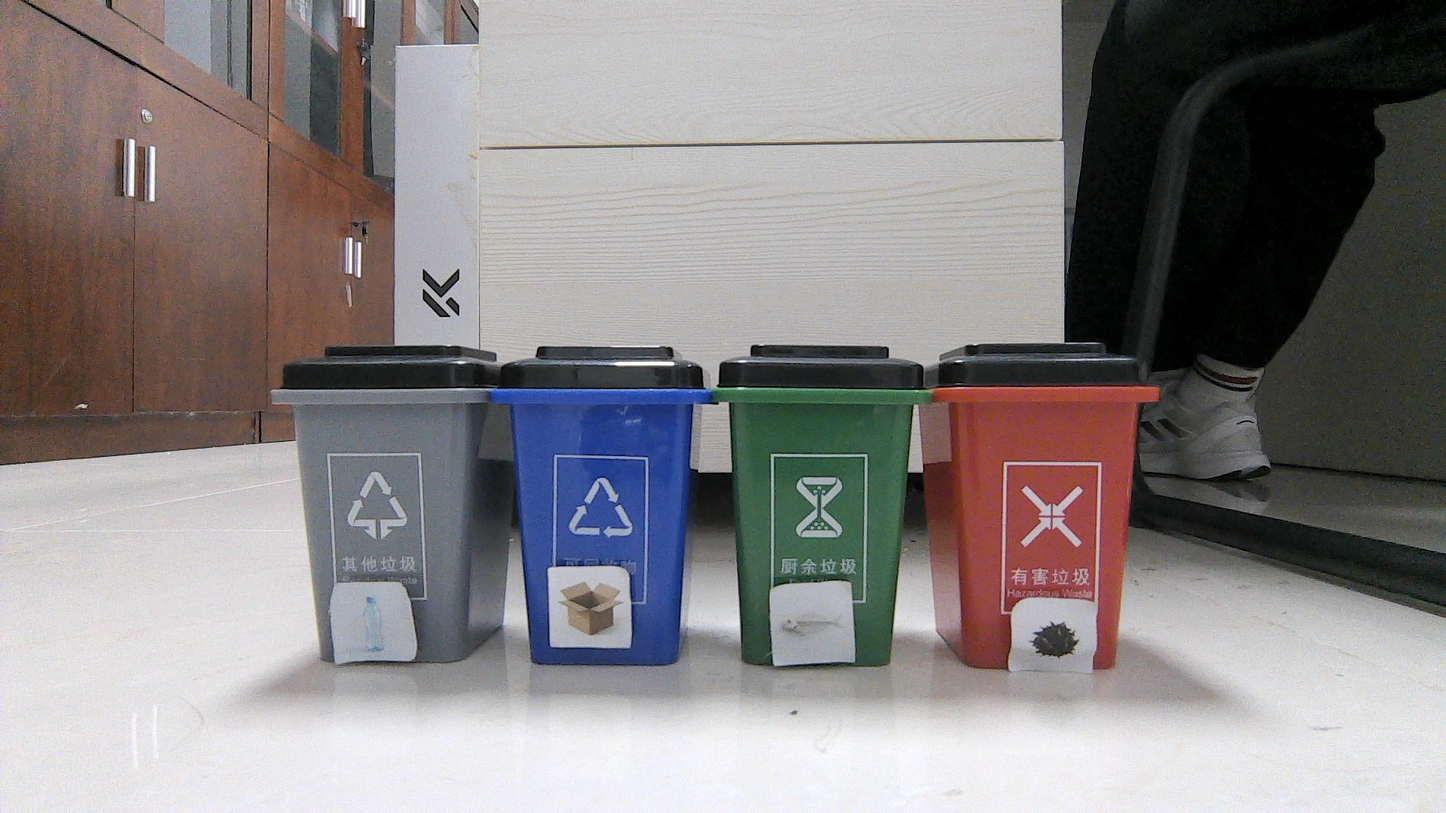food_trash: (775, 586, 850, 660), (1018, 603, 1091, 671)
recyclable_trash: (554, 568, 627, 644), (338, 586, 403, 657)
